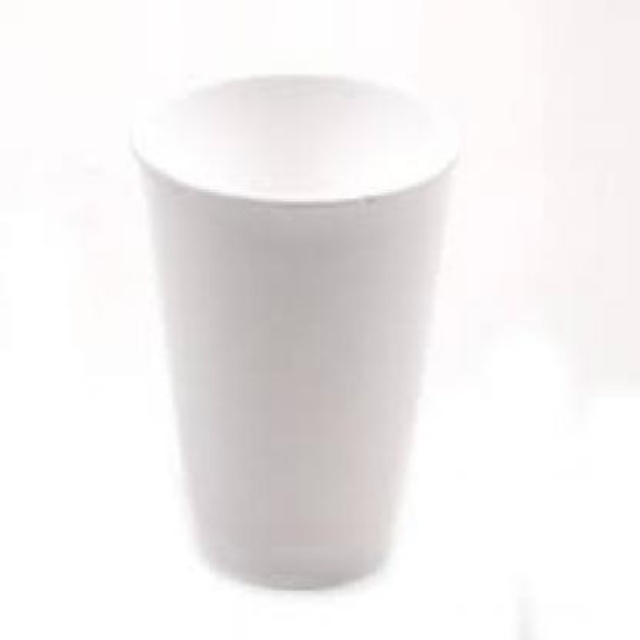trash: (134, 75, 455, 586)
